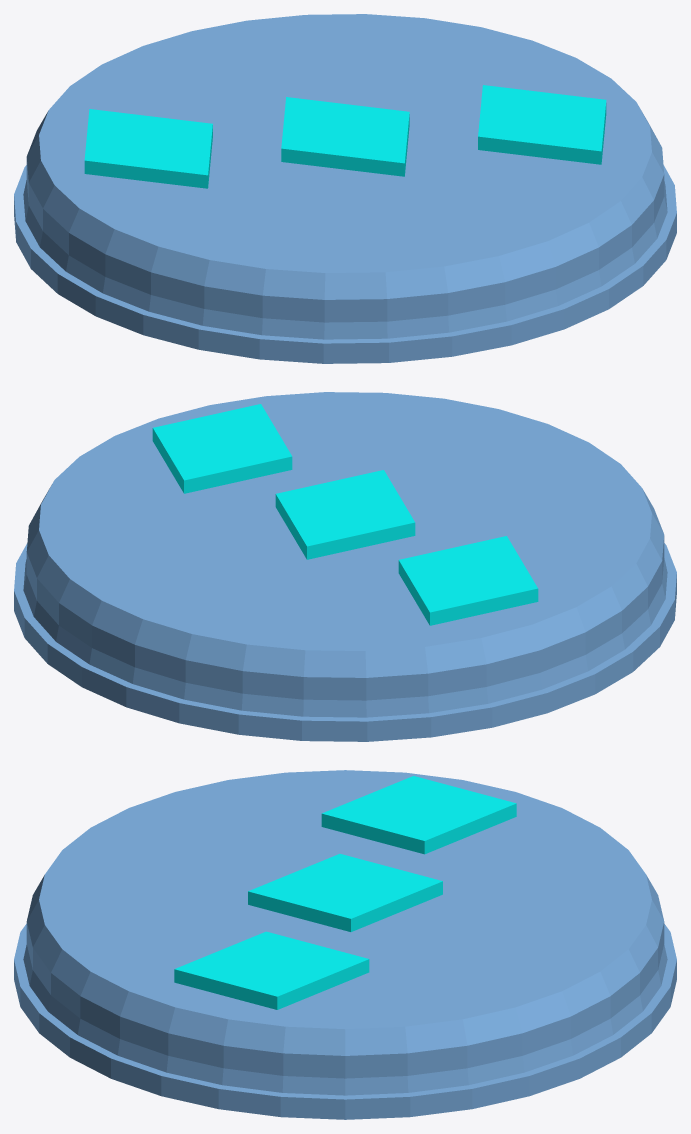
Rendered from Diamond_top.fbx.
3 views of the same model, one above another, from view 1: azimuth 30°, elevation 25°; view 2: azimuth 150°, elevation 25°; view 3: azimuth 270°, elevation 25° (orthographic).
Parts seen in each view (by area): view 1: top blade, Cube.001, Cube, Cube.002; view 2: top blade, Cube.001, Cube, Cube.002; view 3: top blade, Cube.001, Cube.002, Cube.
Part boxes in pixels (x1,y1,x2,y2): top blade: (14, 14, 676, 363); Cube.001: (478, 85, 606, 164); Cube: (281, 97, 409, 176); Cube.002: (84, 109, 212, 188); top blade: (14, 392, 676, 741); Cube.001: (152, 404, 292, 493); Cube: (275, 470, 415, 559); Cube.002: (398, 536, 538, 625); top blade: (14, 770, 676, 1119); Cube.001: (174, 931, 369, 1009); Cube.002: (321, 776, 516, 854); Cube: (248, 854, 442, 931).
Bounding box in the file's own units: 900 × 140 × 900.
